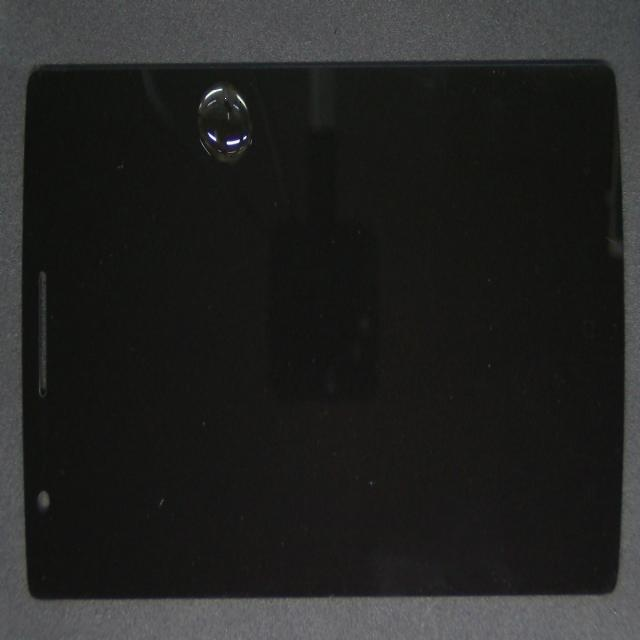oil: (113, 30, 307, 156)
